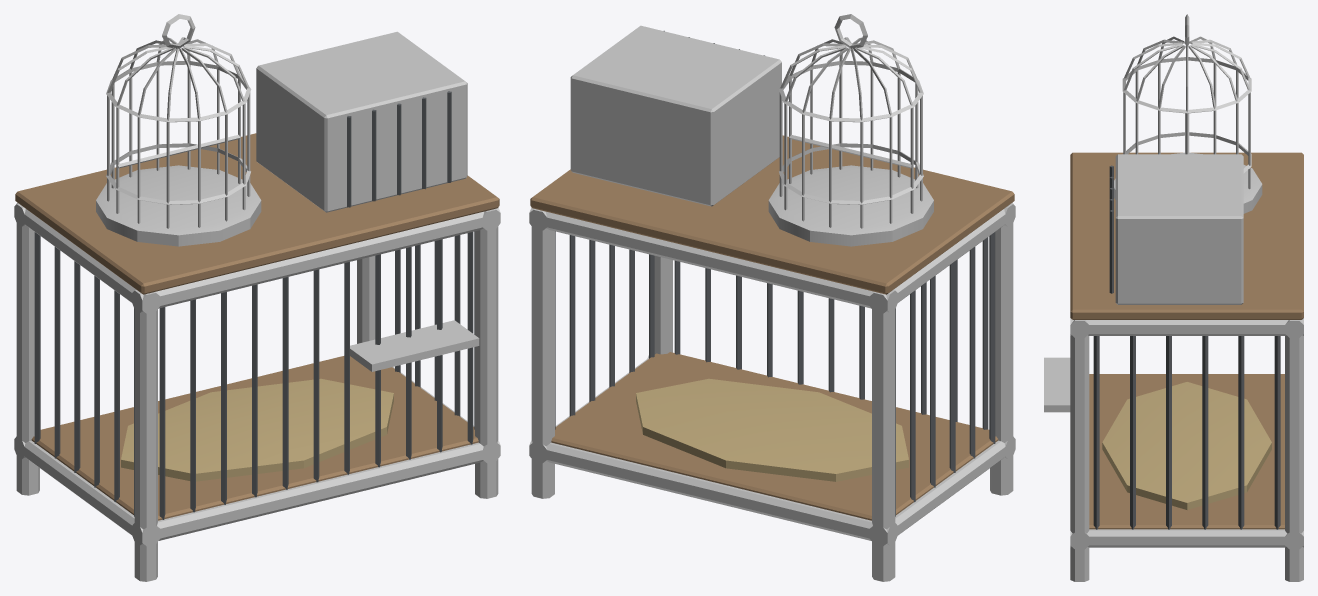
The model's file is clutter_cages.glb.
3 renders of one model, left to right at view 1: azimuth 30°, elevation 25°; view 2: azimuth 150°, elevation 25°; view 3: azimuth 270°, elevation 25°, orthographic. The views are drawn at different scales.
Visible parts, largest first — view 1: clutter_cages; view 2: clutter_cages; view 3: clutter_cages.
Part boxes in pixels (left/top/right/bottom): clutter_cages: left=14, top=14, right=500, bottom=581; clutter_cages: left=529, top=14, right=1015, bottom=581; clutter_cages: left=1044, top=14, right=1303, bottom=581.
Size of the model in its own units: 1 by 1.33 by 0.69.
